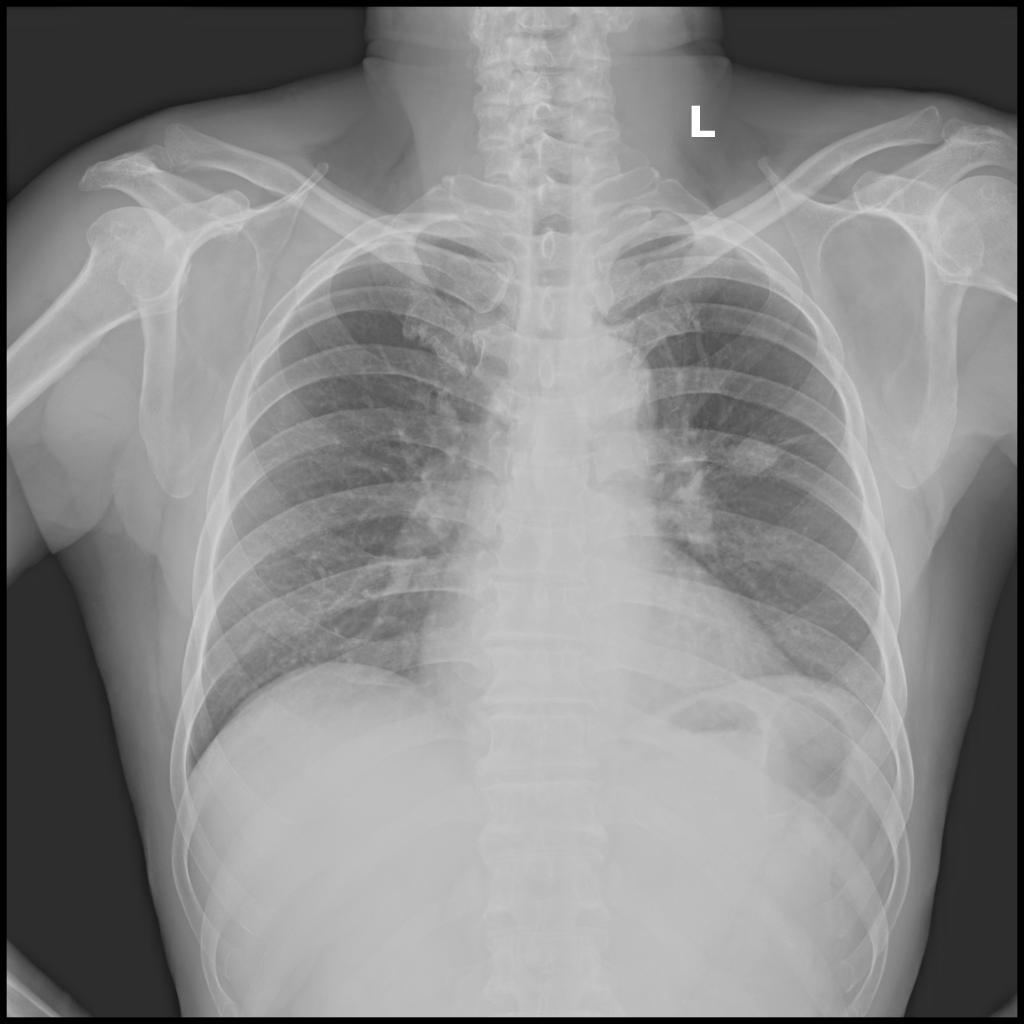Nodule: (722, 436, 781, 477)
